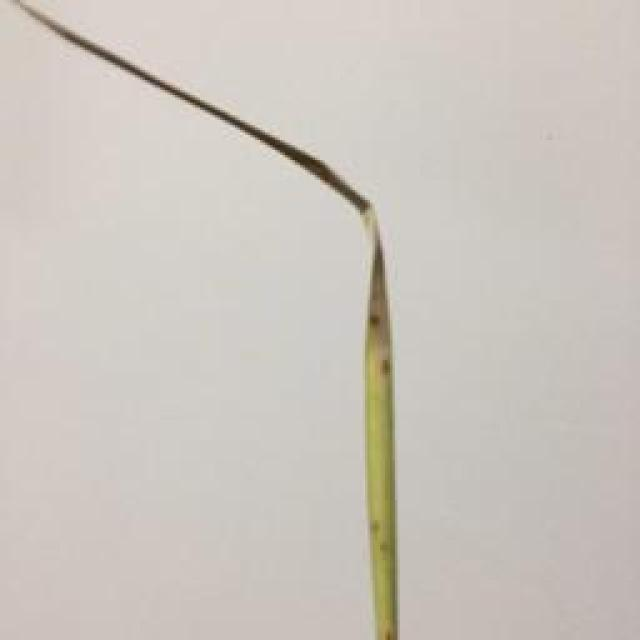Brown_Spot: (378, 338, 402, 388), (367, 306, 386, 333), (366, 514, 381, 546), (381, 621, 394, 640)
